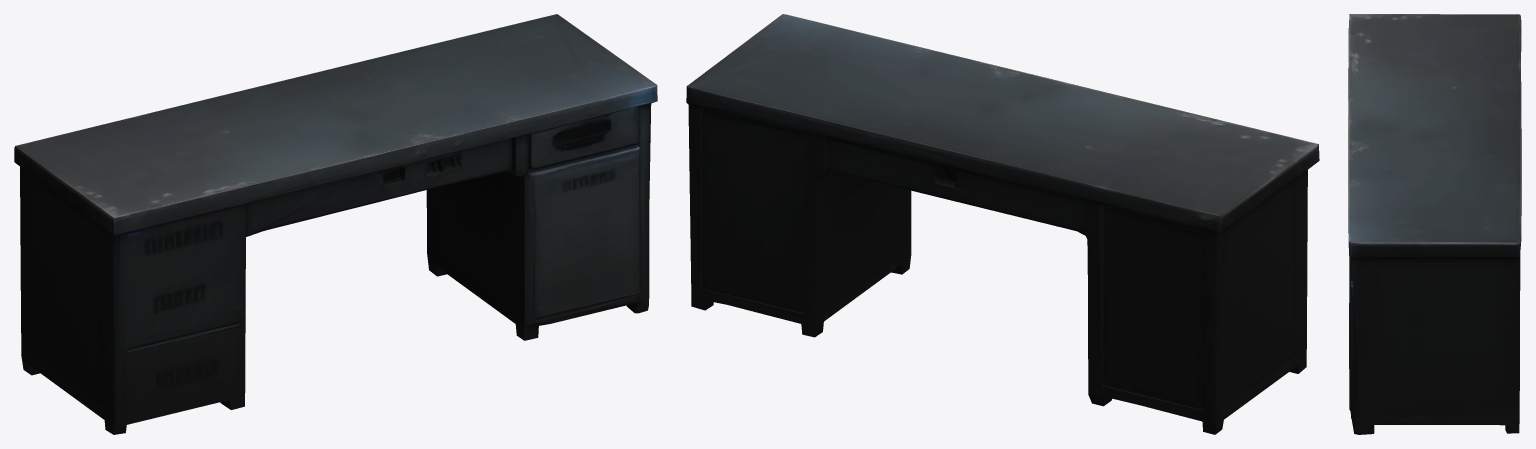
File: security-desk.glb
3 views of the same model, side by side, from view 1: azimuth 30°, elevation 25°; view 2: azimuth 150°, elevation 25°; view 3: azimuth 270°, elevation 25° (orthographic). The views are drawn at different scales.
Visible parts, largest first — view 1: geometry_0; view 2: geometry_0; view 3: geometry_0.
Part boxes in pixels (<box>): geometry_0: <box>14,14,657,434</box>; geometry_0: <box>686,14,1319,434</box>; geometry_0: <box>1348,14,1521,434</box>.
Size of the model in its own units: 0.999 by 0.3954 by 0.3196.
1 material, 1 textured.
